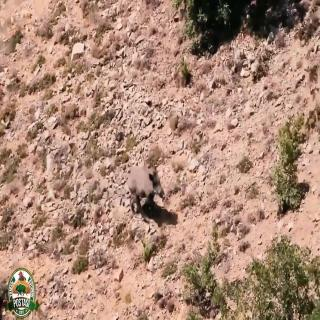Pig: (128, 154, 168, 218)
